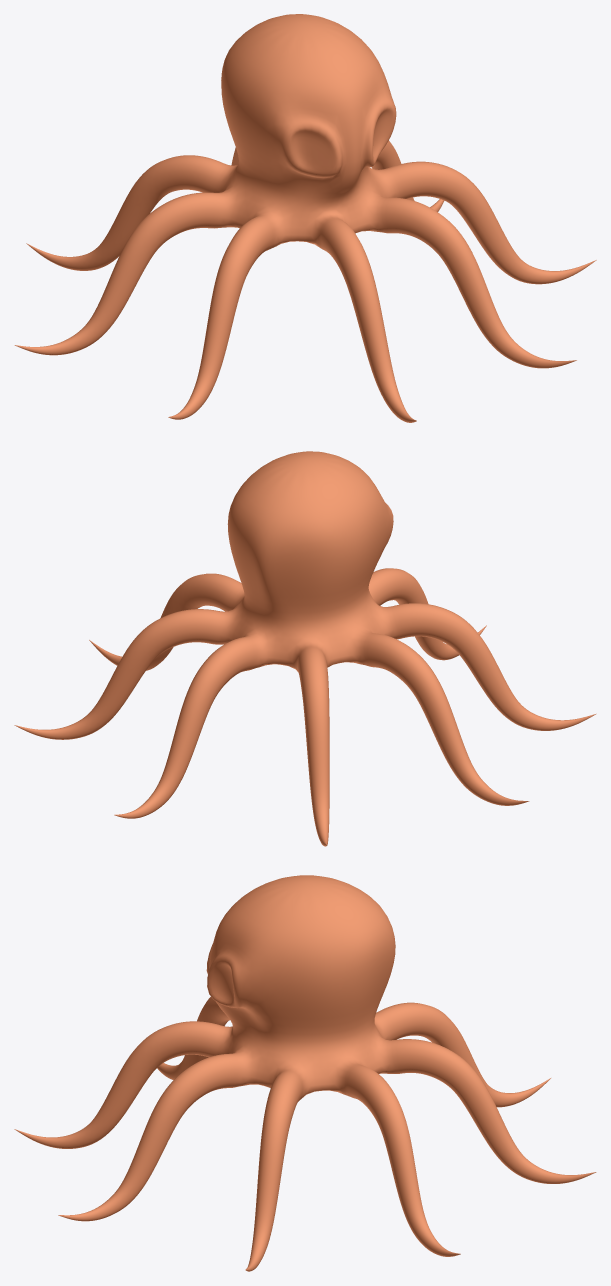
3 views of the same model, one above another, from view 1: azimuth 30°, elevation 25°; view 2: azimuth 150°, elevation 25°; view 3: azimuth 270°, elevation 25° (orthographic). The views are drawn at different scales.
Visible parts, largest first — view 1: 章鱼; view 2: 章鱼; view 3: 章鱼.
Boxes of the visible parts, x1=… form: 章鱼: x1=14, y1=14, x2=596, y2=422; 章鱼: x1=14, y1=451, x2=596, y2=846; 章鱼: x1=14, y1=875, x2=596, y2=1271.
Bounding box in the file's own units: 141 × 75.38 × 141.
